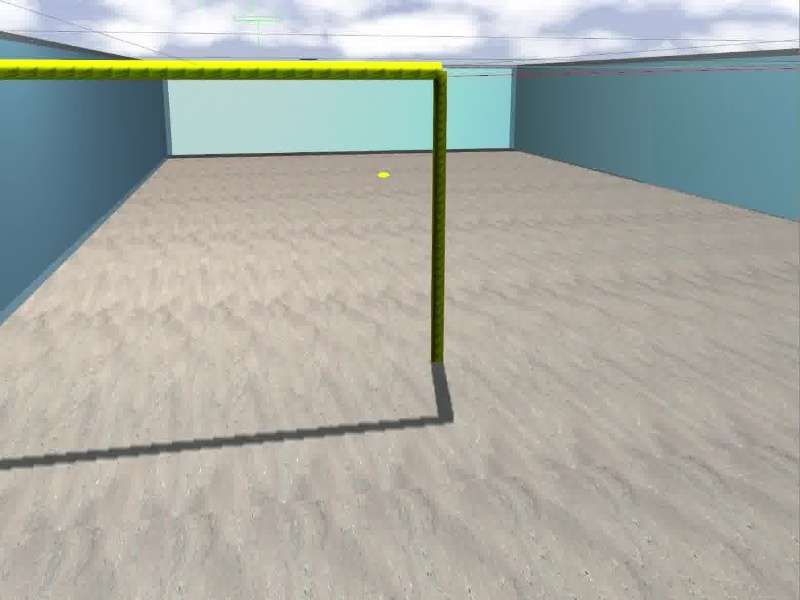gate: (1, 54, 447, 366)
